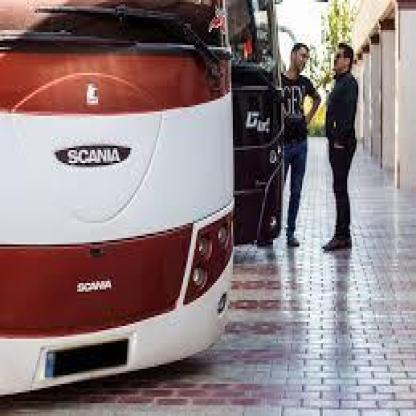Bus: (0, 0, 297, 382)
